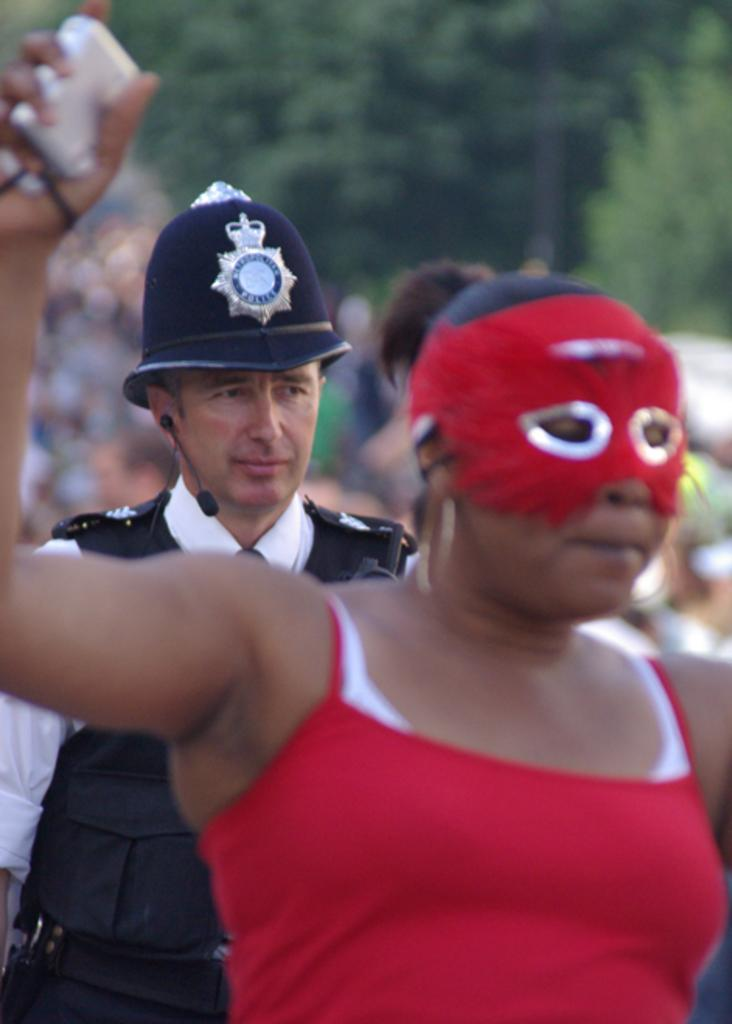Hat: (117, 182, 355, 406)
